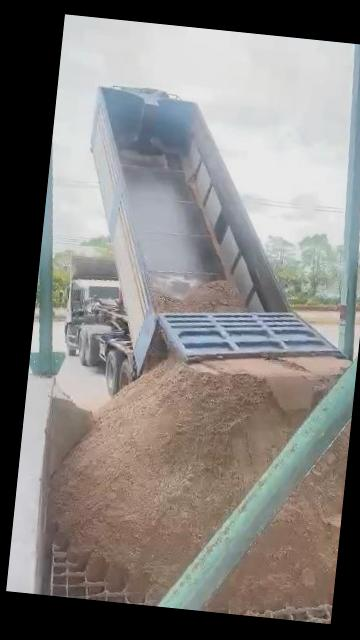sand: (51, 357, 347, 595), (208, 431, 348, 613), (47, 392, 93, 476), (154, 280, 246, 312), (145, 330, 167, 370)
